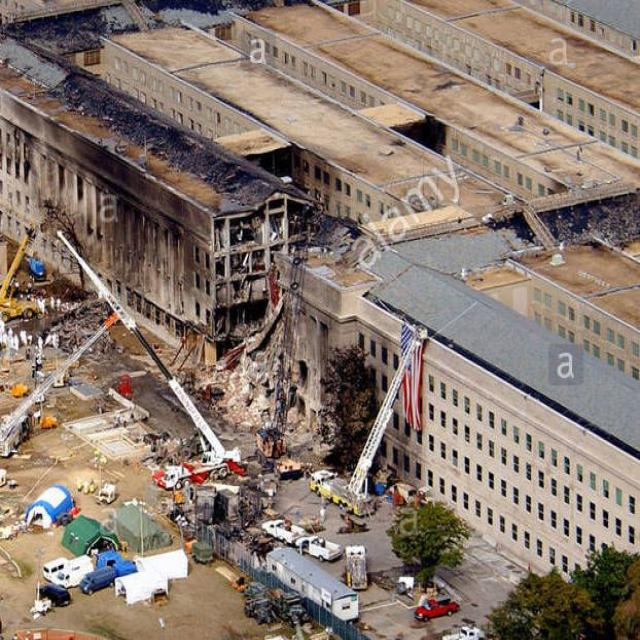collapsed_building: (209, 222, 359, 439)
